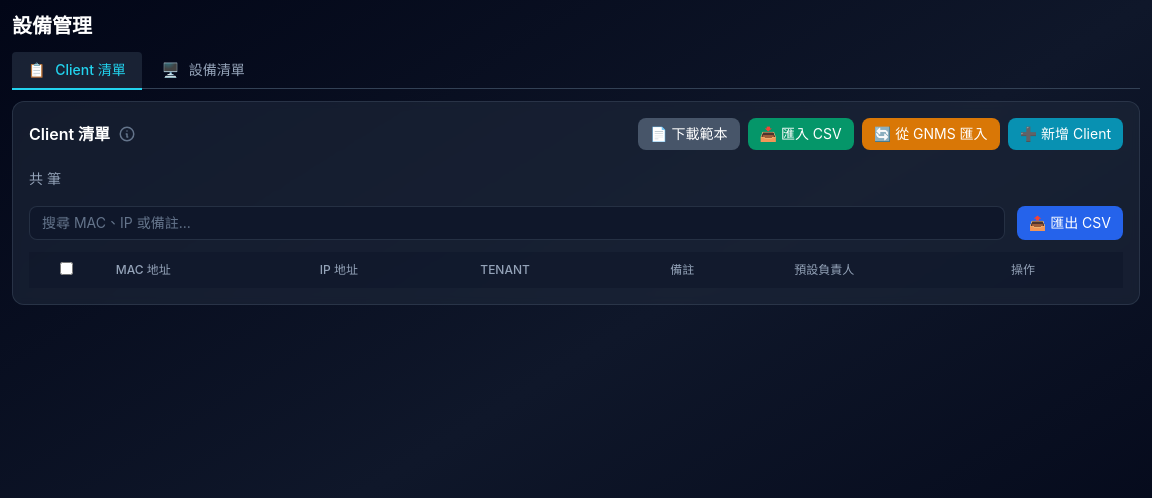
Test: Devices › switching tabs updates active state
Find the device tab button and click it
Click the button "🖥️ 設備清單": (203, 71) [146,52,261,90]
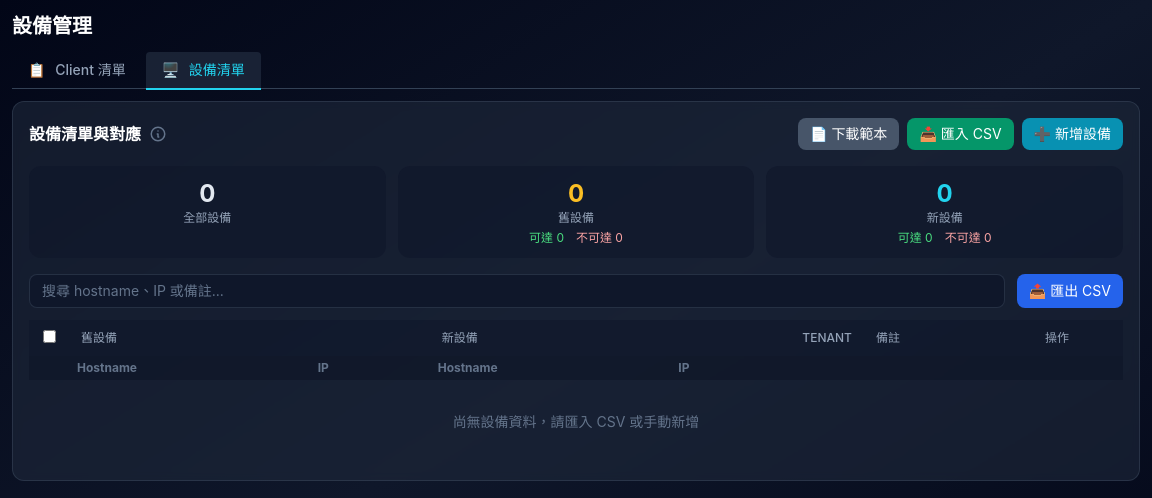
Check: the heading "設備清單與對應" is shown, box [29,122,141,146]
